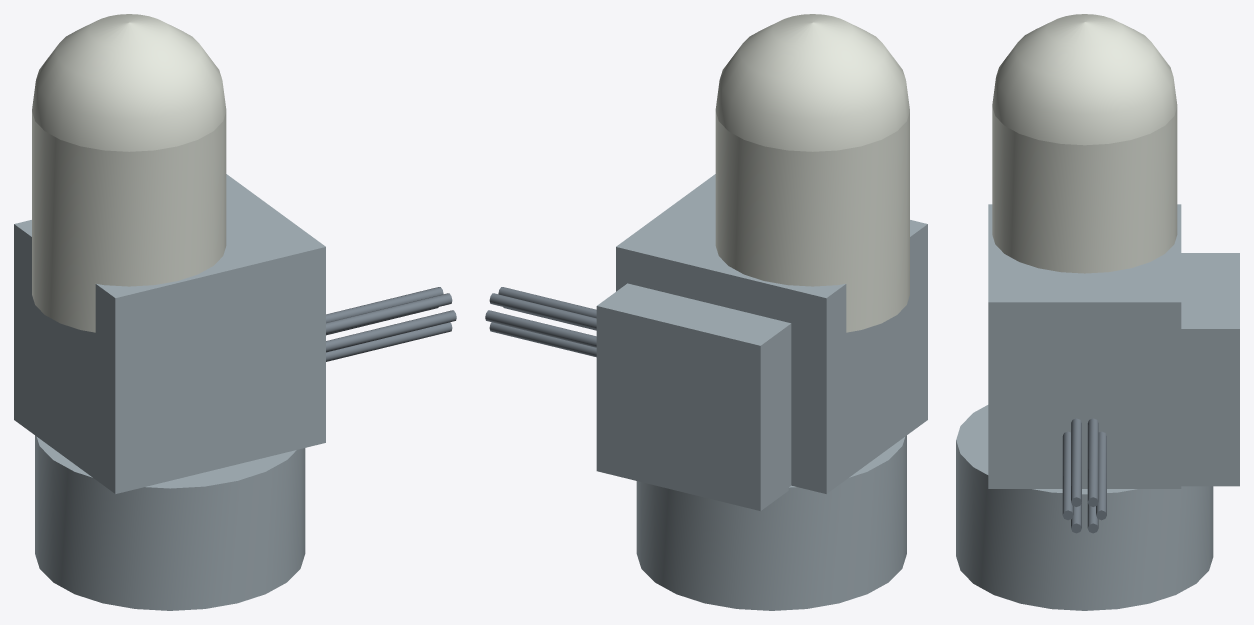
The model's file is pla_hpj12_ciws.glb.
3 views of the same model, side by side, from view 1: azimuth 30°, elevation 25°; view 2: azimuth 150°, elevation 25°; view 3: azimuth 270°, elevation 25° (orthographic). The views are drawn at different scales.
Parts seen in each view (by area): view 1: naval_paint, radome, titanium; view 2: naval_paint, radome, titanium; view 3: naval_paint, radome, titanium.
Boxes of the visible parts, x1,y1,x2,y2 form: naval_paint: (14, 174, 325, 610); radome: (32, 14, 226, 332); titanium: (326, 287, 456, 361); naval_paint: (596, 174, 927, 610); radome: (715, 14, 909, 332); titanium: (485, 287, 596, 357); naval_paint: (956, 204, 1239, 610); radome: (992, 14, 1177, 273); titanium: (1062, 418, 1106, 533).
Bounding box in the file's own units: 7.74 × 10 × 4.99.
